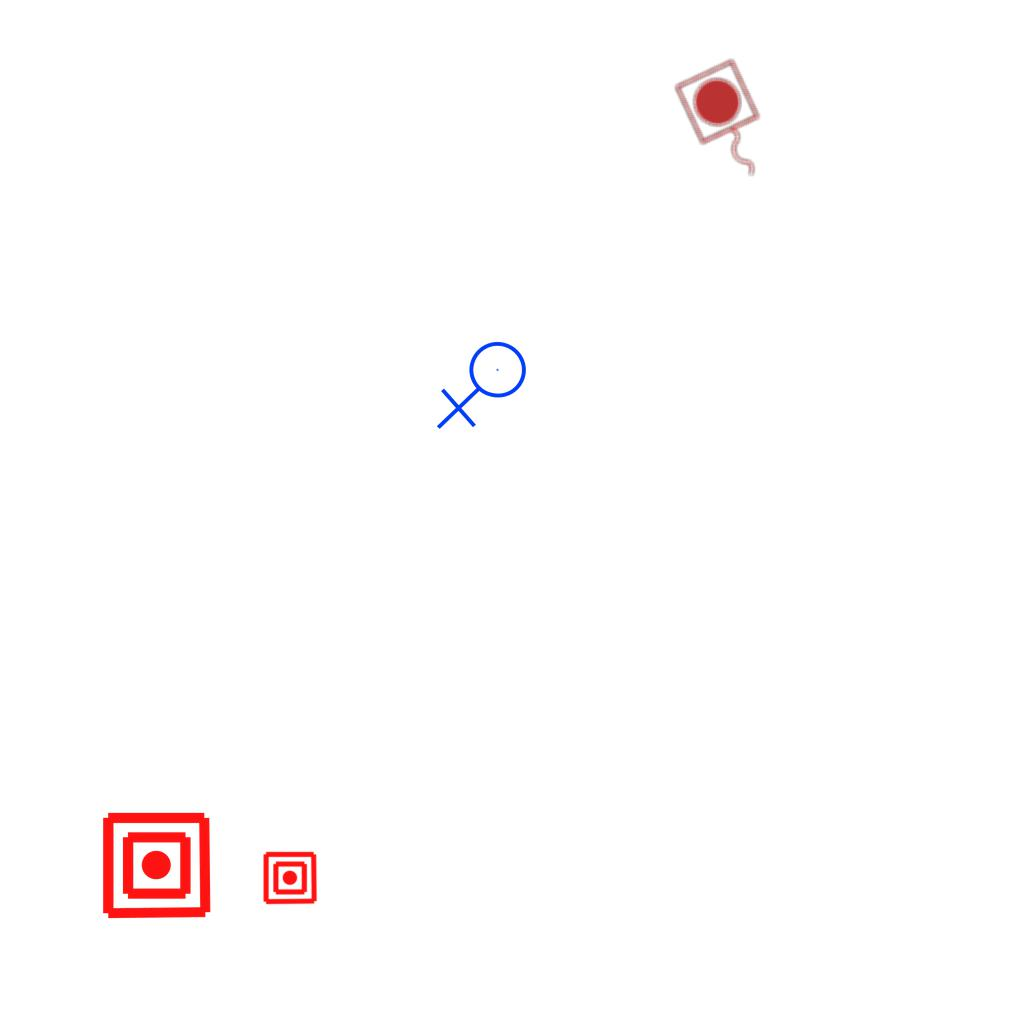Elektroanschluss_allgemein_230V_Geraeteanschlussdose_230V: (436, 340, 535, 434)
NAM-Nichtautomatischer_Melder: (100, 809, 213, 922), (262, 850, 318, 906)
Zugtaster: (668, 54, 786, 196)
